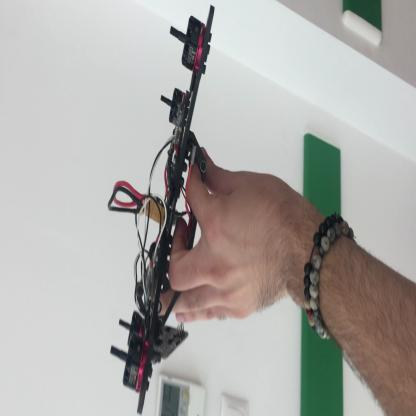drone: (115, 4, 217, 416)
